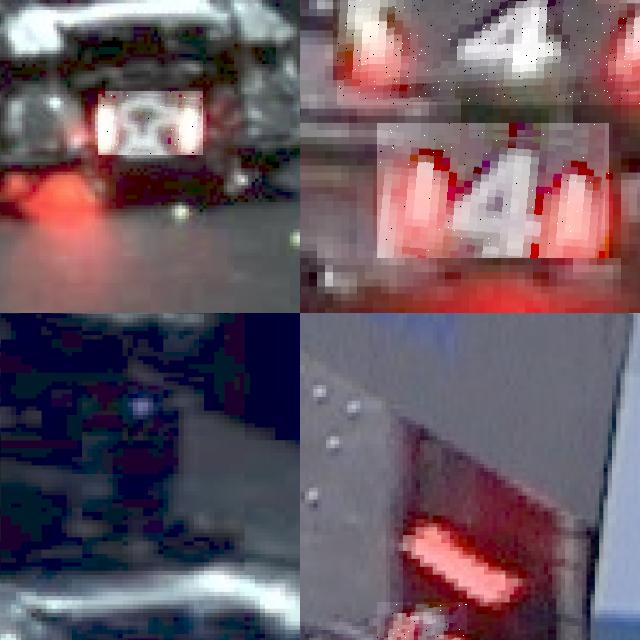R2: (377, 602, 466, 640)
R4: (337, 0, 640, 105), (377, 123, 609, 258)
Rs: (98, 91, 203, 155)
